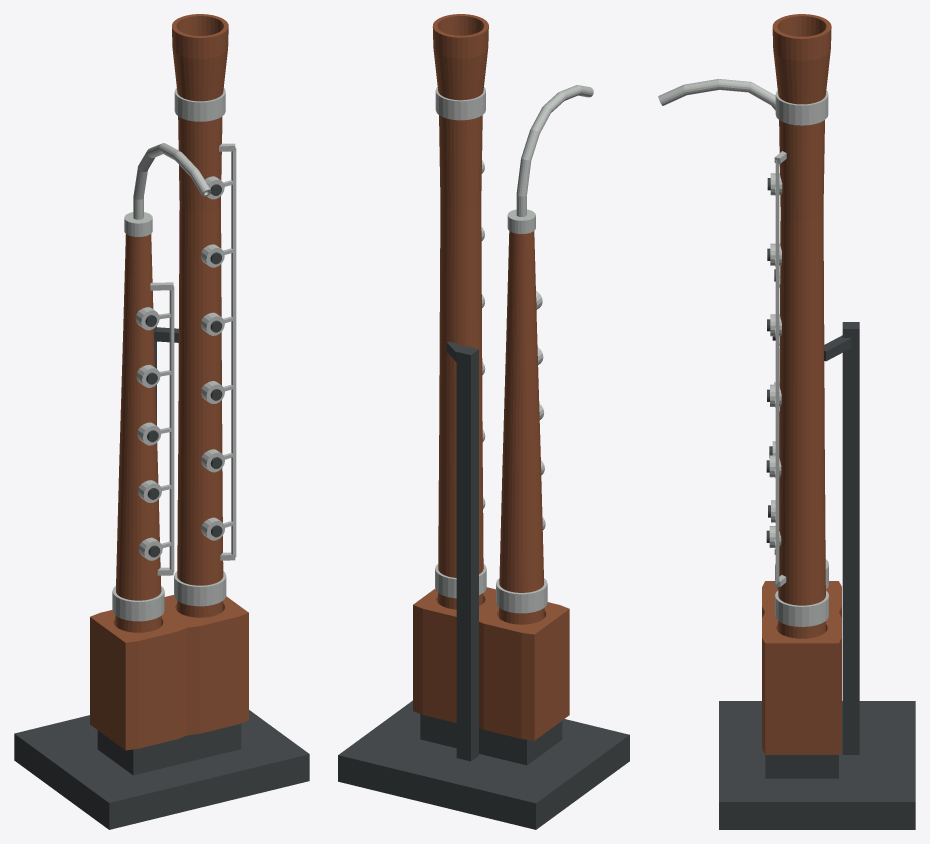
The picture shows the model from 3 angles, left to right: view 1: azimuth 30°, elevation 25°; view 2: azimuth 150°, elevation 25°; view 3: azimuth 270°, elevation 25°; orthographic projection. The views are drawn at different scales.
Parts seen in each view (by area): view 1: WholeLongBassJointAndSmallOpenBell, WholeTwinBlindBoreBootJoint, WholeDisplayGroundFoot, WholeShortWingJoint, WholeBootSupportBlock, BassWholeKeyRod, WingWholeKeyRod, WholeOpenCurvedBocal, WholeJointFerrule_0, WholeJointFerrule_1, WholeJointFerrule_2, WholeBocalRootCollar; view 2: WholeLongBassJointAndSmallOpenBell, WholeDisplayGroundFoot, WholeTwinBlindBoreBootJoint, WholeShortWingJoint, WholeRearDisplayPost, WholeBootSupportBlock, WholeOpenCurvedBocal, WholeJointFerrule_0, WholeJointFerrule_2, WholeJointFerrule_1, WholeBocalRootCollar; view 3: WholeLongBassJointAndSmallOpenBell, WholeDisplayGroundFoot, WholeTwinBlindBoreBootJoint, WholeRearDisplayPost, BassWholeKeyRod, WholeBootSupportBlock, WholeOpenCurvedBocal, WholeJointFerrule_1, WholeJointFerrule_2.
Boxes of the visible parts, x1,y1,x2,y2 form: WholeLongBassJointAndSmallOpenBell: (172,14,228,617); WholeTwinBlindBoreBootJoint: (90,595,248,750); WholeDisplayGroundFoot: (14,710,309,829); WholeShortWingJoint: (115,234,161,632); WholeBootSupportBlock: (97,723,241,775); BassWholeKeyRod: (231,148,236,557); WingWholeKeyRod: (169,286,174,572); WholeOpenCurvedBocal: (133,143,211,219); WholeJointFerrule_0: (112,586,164,621); WholeJointFerrule_1: (174,571,226,606); WholeJointFerrule_2: (174,88,225,121); WholeBocalRootCollar: (124,212,152,236); WholeLongBassJointAndSmallOpenBell: (432,14,488,609); WholeDisplayGroundFoot: (338,700,629,829); WholeTwinBlindBoreBootJoint: (413,587,569,740); WholeShortWingJoint: (499,231,544,624); WholeRearDisplayPost: (456,346,478,761); WholeBootSupportBlock: (420,714,562,765); WholeOpenCurvedBocal: (516,85,593,216); WholeJointFerrule_0: (496,578,547,613); WholeJointFerrule_2: (435,87,485,120); WholeJointFerrule_1: (435,564,486,598); WholeBocalRootCollar: (507,209,535,233); WholeLongBassJointAndSmallOpenBell: (772,14,831,638); WholeDisplayGroundFoot: (719,701,915,829); WholeTwinBlindBoreBootJoint: (762,581,841,754); WholeRearDisplayPost: (842,322,859,754); BassWholeKeyRod: (775,160,779,583); WholeBootSupportBlock: (765,755,838,778); WholeOpenCurvedBocal: (658,79,775,110); WholeJointFerrule_1: (775,590,828,626); WholeJointFerrule_2: (775,90,828,125).
Size of the model in its own units: 0.39 by 1.38 by 0.419.
